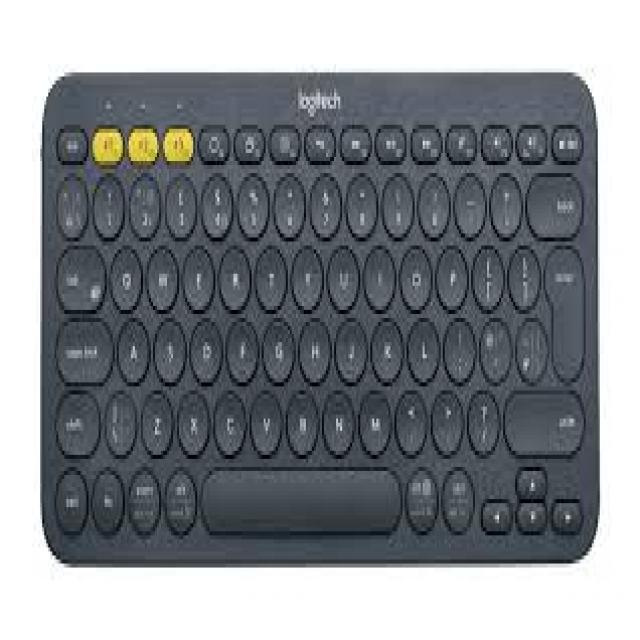others: (38, 69, 604, 564)
